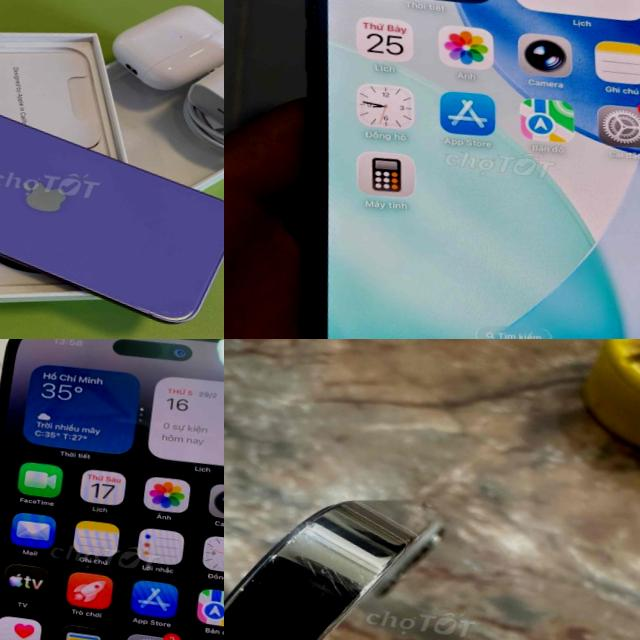gen_12_13: (227, 0, 640, 339), (0, 77, 224, 332)
gen_14: (0, 339, 224, 640), (224, 445, 476, 640)
